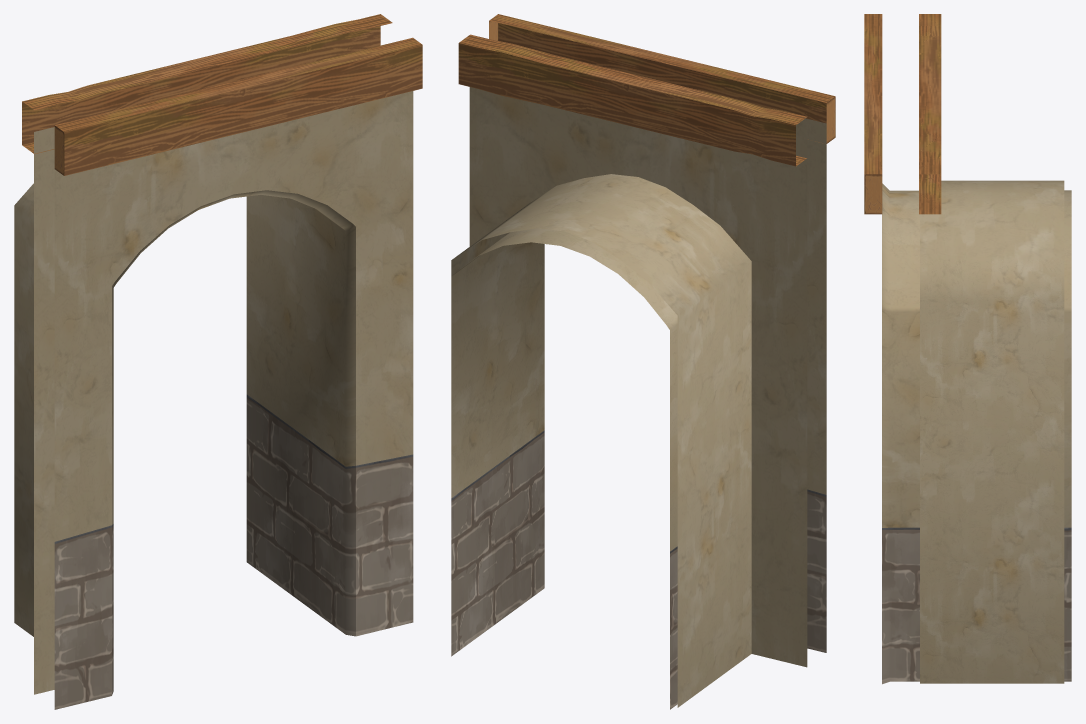
Rendered from Wall_Plaster_Door_RoundInset.gltf.
3 views of the same model, side by side, from view 1: azimuth 30°, elevation 25°; view 2: azimuth 150°, elevation 25°; view 3: azimuth 270°, elevation 25° (orthographic). The views are drawn at different scales.
Visible parts, largest first — view 1: Wall_Plaster_Door_RoundInset; view 2: Wall_Plaster_Door_RoundInset; view 3: Wall_Plaster_Door_RoundInset.
Part boxes in pixels (box(x1,y1,x2,y2)): Wall_Plaster_Door_RoundInset: box(14, 14, 422, 709); Wall_Plaster_Door_RoundInset: box(451, 14, 835, 709); Wall_Plaster_Door_RoundInset: box(864, 14, 1071, 684).
Bounding box in the file's own units: 2 × 3.12 × 1.09.
3 materials, 3 textured.
